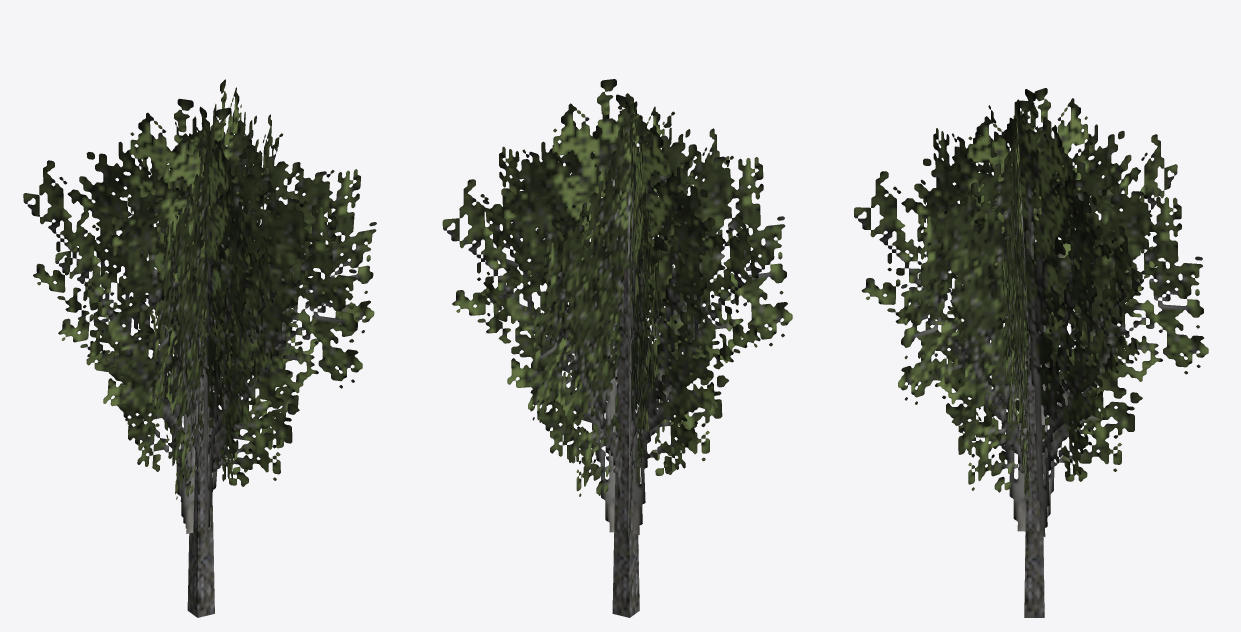
File: Tree_9.fbx
3 renders of one model, left to right at view 1: azimuth 30°, elevation 25°; view 2: azimuth 150°, elevation 25°; view 3: azimuth 270°, elevation 25°, orthographic.
Parts seen in each view (by area): view 1: Tree.9; view 2: Tree.9; view 3: Tree.9.
Boxes of the visible parts, x1=… form: Tree.9: x1=23, y1=79, x2=376, y2=617; Tree.9: x1=442, y1=79, x2=792, y2=617; Tree.9: x1=854, y1=88, x2=1208, y2=617.
Size of the model in its own units: 449 by 668 by 426.
